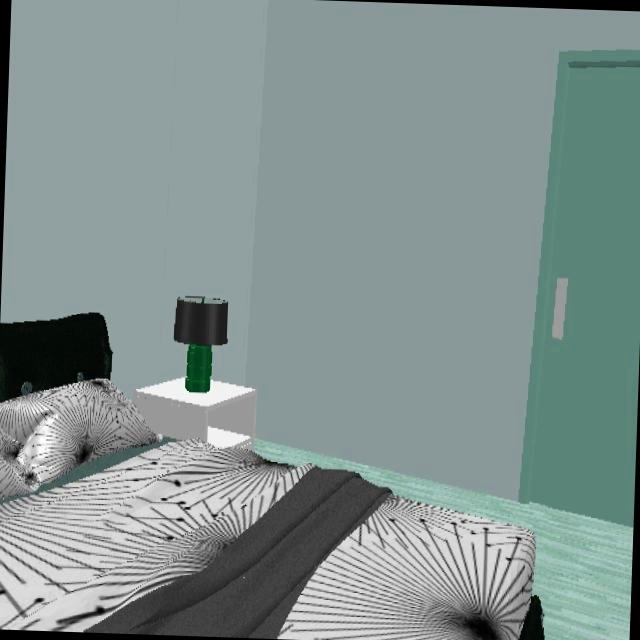bed: (0, 314, 543, 640)
lamp: (172, 295, 229, 394)
nighttable: (130, 379, 259, 447)
pillow: (0, 378, 163, 505)
